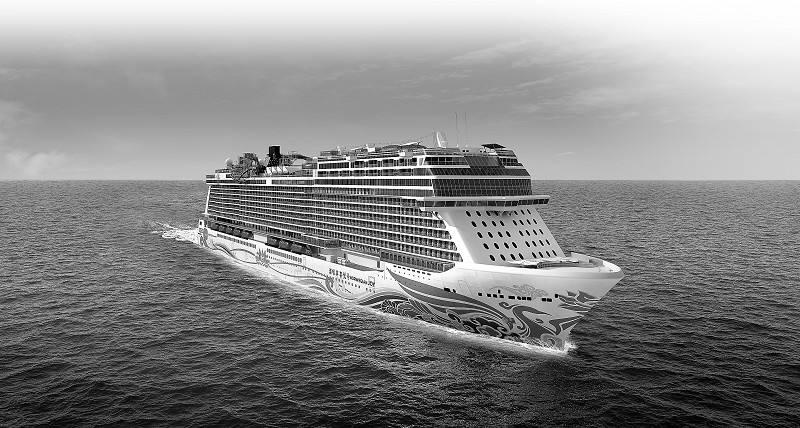youlun: (196, 133, 626, 356)
